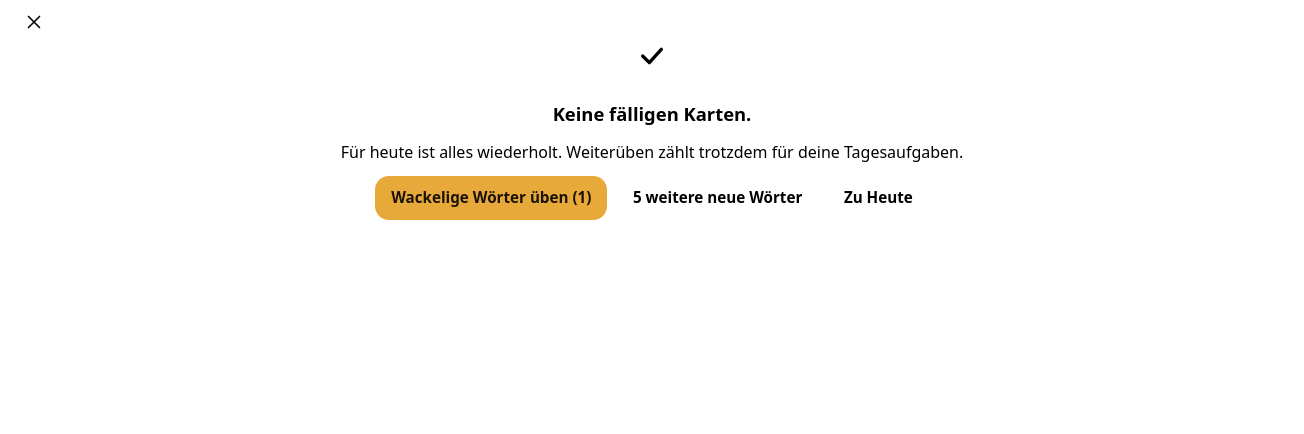
Scenario: Focus review (integration) › offers more to practise when nothing is due and today's new words are learned
Check: the text "Keine fälligen Karten." is shown, box x1=553 y1=100 x2=751 y2=128
Click the link "5 weitere neue Wörter".
click(718, 197)  # box x1=633 y1=187 x2=802 y2=207
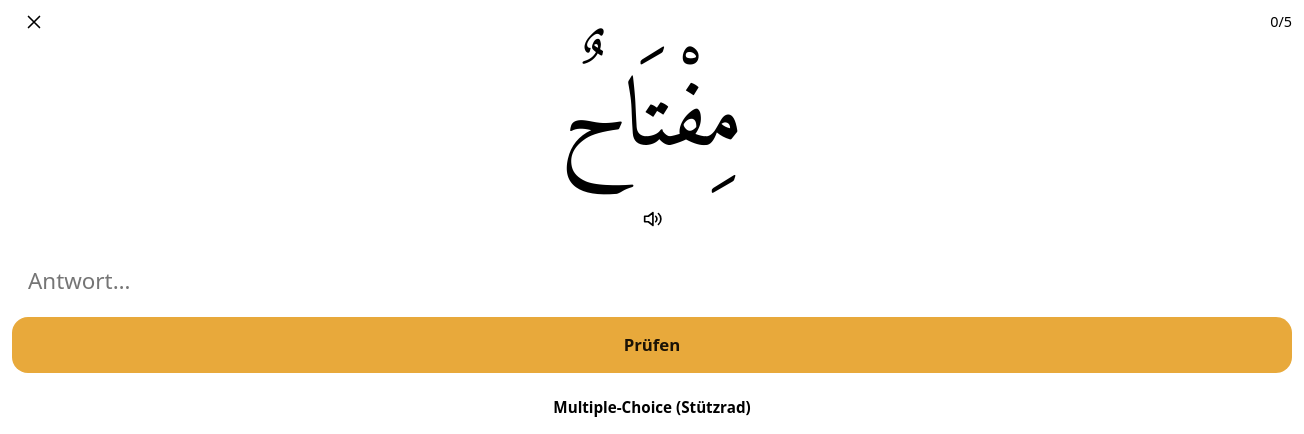
Check: the field named "Antwort eingeben" is shown, box x1=12 y1=257 x2=1292 y2=305
